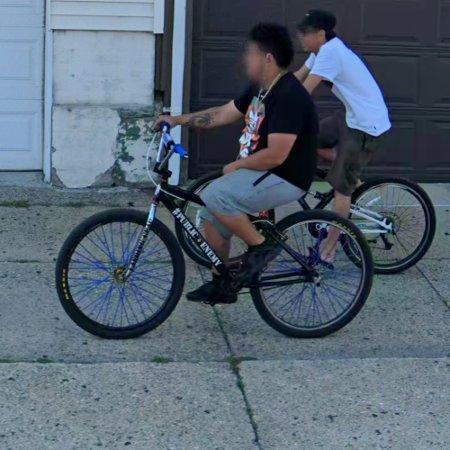bicycles: (56, 125, 229, 338), (253, 211, 374, 338)
